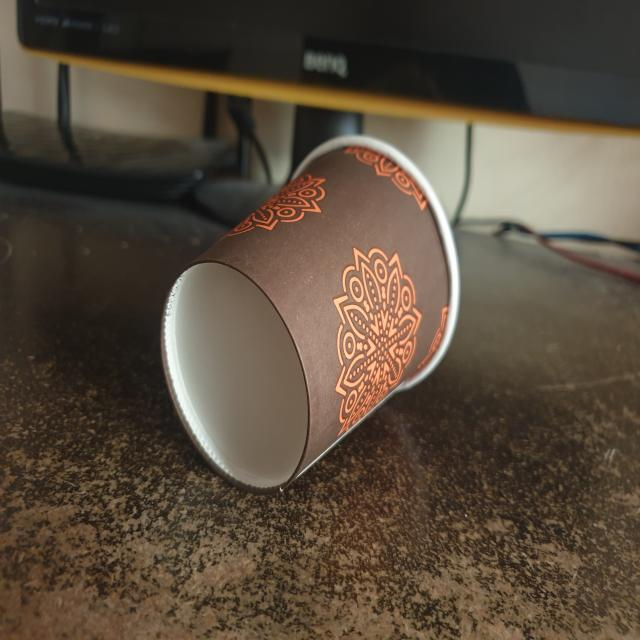cups: (156, 134, 464, 492)
